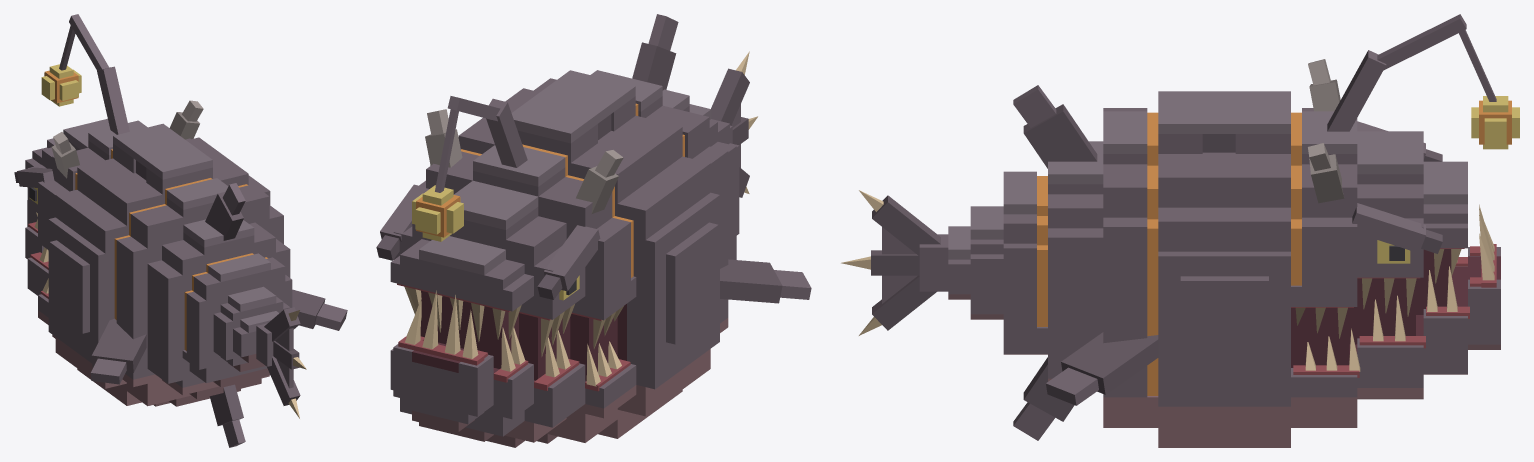
Rendered from InfernalAngler.glb.
The picture shows the model from 3 angles, left to right: view 1: azimuth 30°, elevation 25°; view 2: azimuth 150°, elevation 25°; view 3: azimuth 270°, elevation 25°; orthographic projection. The views are drawn at different scales.
Visible parts, largest first — view 1: Body, B3, B4, B2, Tail, FinL, Jaw, FinR, Lure_Glow, Rod1, Rod2, B2_Glow (+1 smaller); view 2: Body, Jaw, B2, Jaw_Glow, B3, Body_Glow, FinL, Lure_Glow, Tail, Rod1, B4, Lure (+1 smaller); view 3: Body, B3, Jaw, B2, B4, Tail, FinR, Body_Glow, B2_Glow, Jaw_Glow, Lure_Glow, Rod1 (+2 smaller).
Part boxes in pixels (x1,y1,x2,y2): Body: (14,100,270,406); B3: (147,183,290,447); B4: (182,253,292,386); B2: (116,178,283,406); Tail: (256,307,300,405); FinL: (90,318,146,384); Jaw: (25,200,55,338); FinR: (292,289,347,330); Lure_Glow: (41,64,81,106); Rod1: (97,66,129,134); Rod2: (69,14,109,70); B2_Glow: (114,178,247,319); Body: (376,70,719,438); Jaw: (390,336,636,447); B2: (534,70,728,332); Jaw_Glow: (405,290,621,386); B3: (632,14,736,259); Body_Glow: (404,144,633,356); FinL: (720,259,811,303); Lure_Glow: (412,185,463,241); Tail: (711,68,749,197); Rod1: (486,98,527,167); B4: (689,104,739,235); Lure: (435,109,458,192); Body: (1158,59,1467,447); B3: (1013,85,1103,440); Jaw: (1291,244,1500,427); B2: (1103,108,1158,427); B4: (948,171,1047,354); Tail: (871,195,948,330); FinR: (1046,332,1158,405); Body_Glow: (1291,112,1461,338); B2_Glow: (1147,112,1158,395); Jaw_Glow: (1305,204,1494,371); Lure_Glow: (1471,96,1519,149); Rod1: (1327,50,1386,131).
Size of the model in its own units: 16.12 by 18.98 by 27.68.
